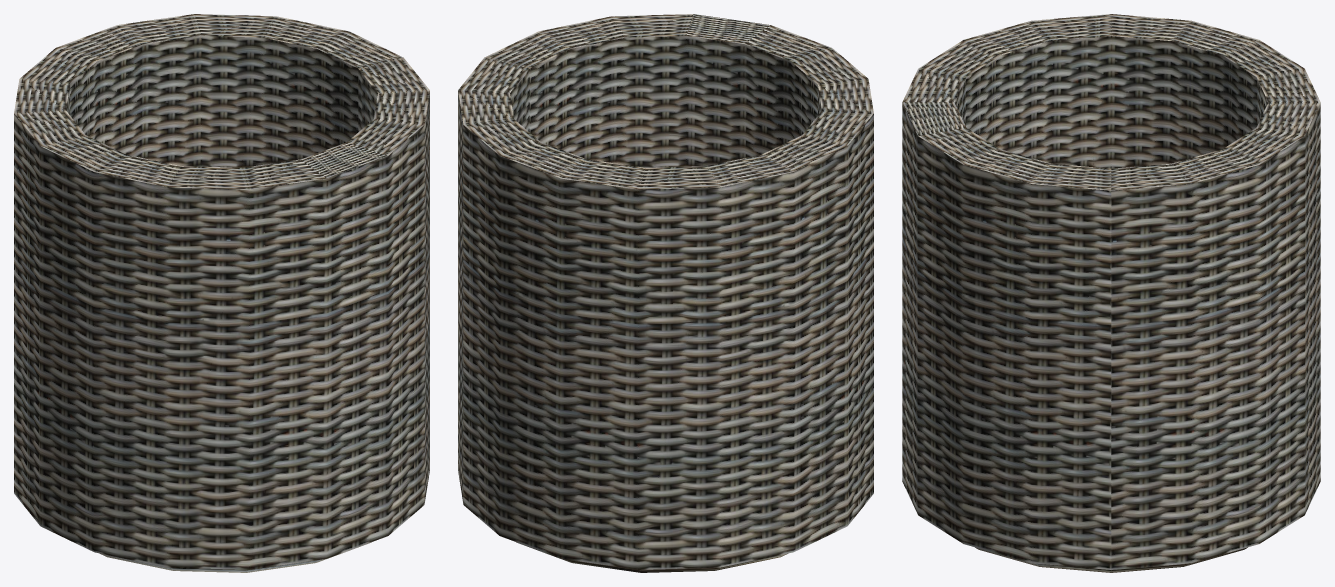
File: basket.fbx
3 renders of one model, left to right at view 1: azimuth 30°, elevation 25°; view 2: azimuth 150°, elevation 25°; view 3: azimuth 270°, elevation 25°, orthographic.
Parts seen in each view (by area): view 1: pPipe1, pCylinder1; view 2: pPipe1, pCylinder1; view 3: pPipe1, pCylinder1.
Boxes of the visible parts, x1,y1,x2,y2 form: pPipe1: (14,14,429,569); pCylinder1: (99,542,371,572); pPipe1: (458,14,873,569); pCylinder1: (516,542,788,572); pPipe1: (902,14,1320,569); pCylinder1: (975,547,1247,572).
Size of the model in its own units: 4 by 4.12 by 4.
